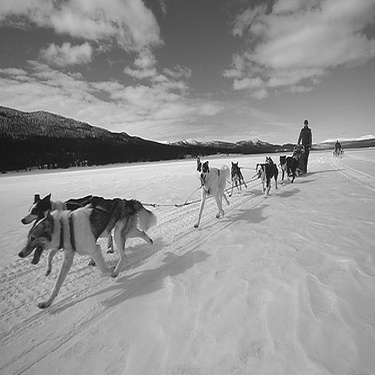dog: (5, 208, 158, 314), (18, 194, 124, 268), (182, 156, 233, 231), (252, 160, 277, 198), (224, 160, 249, 198), (277, 149, 301, 186), (261, 152, 275, 171)
